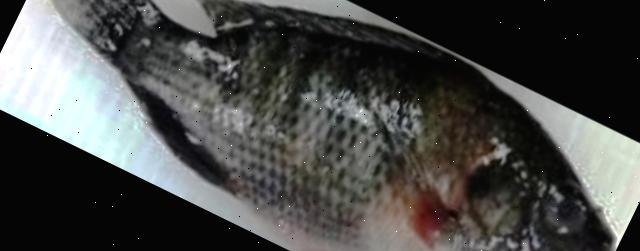Tilapia Lake Virus -TiLV-: (57, 0, 613, 251)
